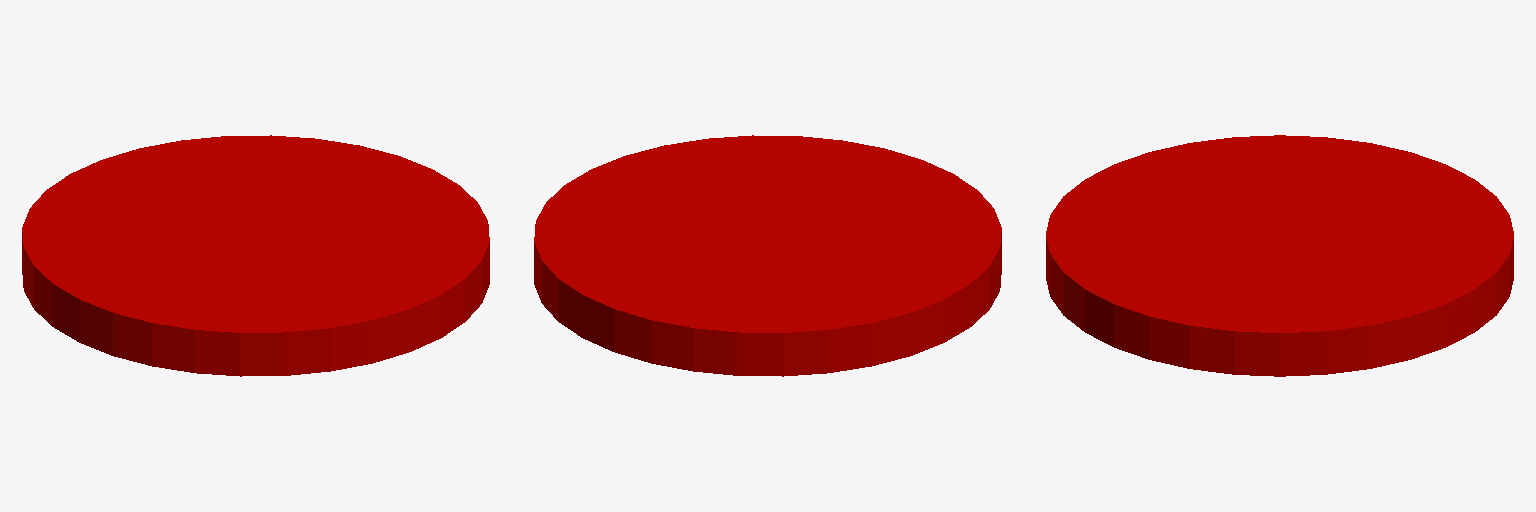
File: maru.obj
3 renders of one model, left to right at view 1: azimuth 30°, elevation 25°; view 2: azimuth 150°, elevation 25°; view 3: azimuth 270°, elevation 25°, orthographic.
Parts seen in each view (by area): view 1: 円柱; view 2: 円柱; view 3: 円柱.
Boxes of the visible parts, x1=… form: 円柱: x1=22, y1=135, x2=489, y2=376; 円柱: x1=534, y1=135, x2=1001, y2=376; 円柱: x1=1046, y1=135, x2=1513, y2=376.
Size of the model in its own units: 2 by 0.2045 by 2.